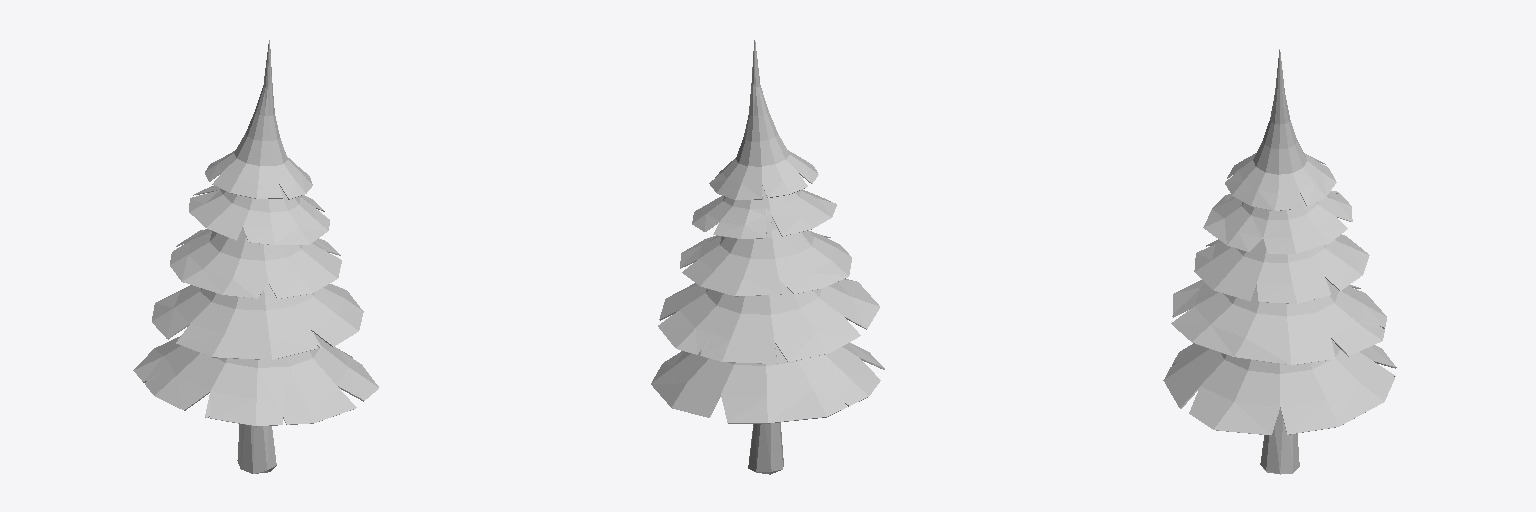
The model's file is circularSpruce.obj.
The picture shows the model from 3 angles: view 1: azimuth 30°, elevation 25°; view 2: azimuth 150°, elevation 25°; view 3: azimuth 270°, elevation 25°; orthographic projection.
Parts seen in each view (by area): view 1: Tree_01_Cylinder; view 2: Tree_01_Cylinder; view 3: Tree_01_Cylinder.
Part boxes in pixels (bbox=[...]): Tree_01_Cylinder: bbox=[133, 40, 378, 473]; Tree_01_Cylinder: bbox=[651, 40, 884, 474]; Tree_01_Cylinder: bbox=[1163, 49, 1396, 474].
Size of the model in its own units: 2.26 by 4.53 by 2.25.